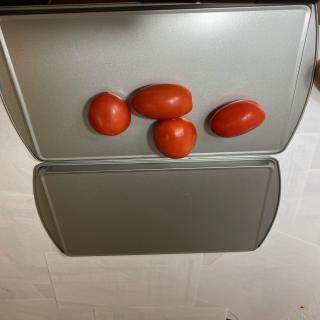Tomato: (131, 83, 193, 120), (210, 99, 266, 138), (88, 91, 131, 136), (153, 118, 197, 159)
